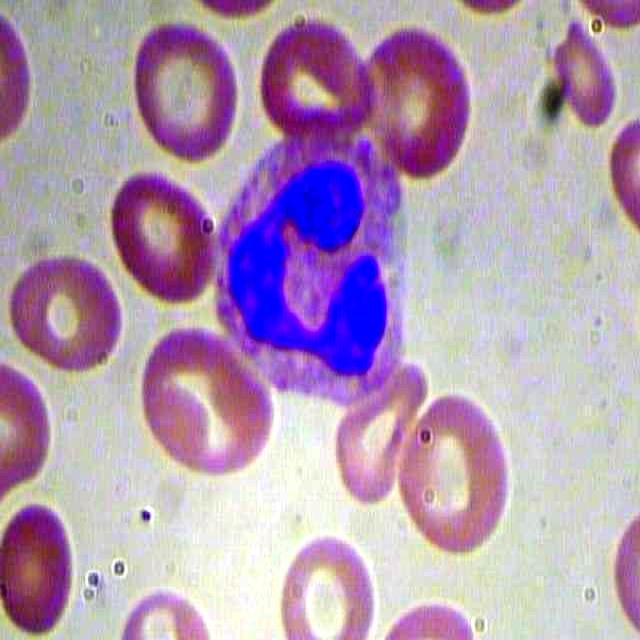RBC: (141, 320, 275, 488), (398, 386, 519, 554), (354, 27, 485, 178), (125, 20, 247, 165), (105, 163, 227, 308), (321, 361, 431, 504), (256, 1, 369, 139), (1, 252, 120, 371), (276, 525, 388, 639), (1, 497, 86, 640), (539, 16, 624, 127)
WBC: (210, 123, 438, 396)
